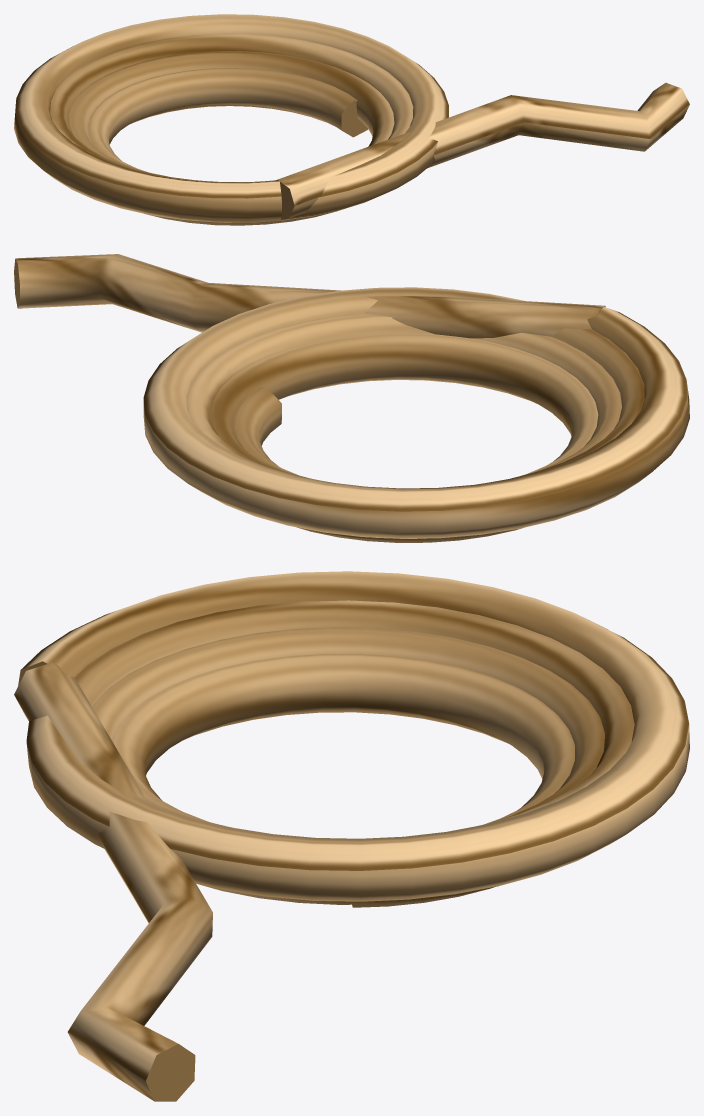
File: SM_RopeCoil.glb
3 views of the same model, one above another, from view 1: azimuth 30°, elevation 25°; view 2: azimuth 150°, elevation 25°; view 3: azimuth 270°, elevation 25° (orthographic). The views are drawn at different scales.
Parts seen in each view (by area): view 1: SM_RopeCoil; view 2: SM_RopeCoil; view 3: SM_RopeCoil.
Boxes of the visible parts, x1,y1,x2,y2 form: SM_RopeCoil: (14,14,689,225); SM_RopeCoil: (14,254,689,542); SM_RopeCoil: (14,571,689,1101).
Size of the model in its own units: 0.8655 by 0.1066 by 0.5643.
Materials: 1 (1 with a texture image).
